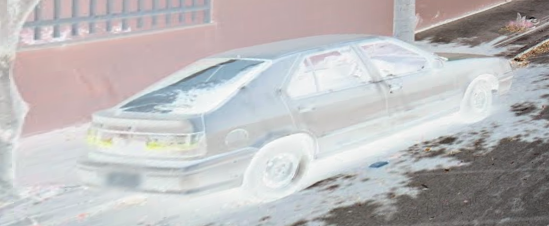car: (77, 35, 511, 194)
